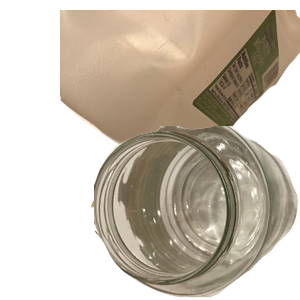glass: (94, 126, 300, 300)
metal: (86, 46, 248, 169)
plastic: (60, 10, 300, 160)
trash: (88, 177, 251, 300)
